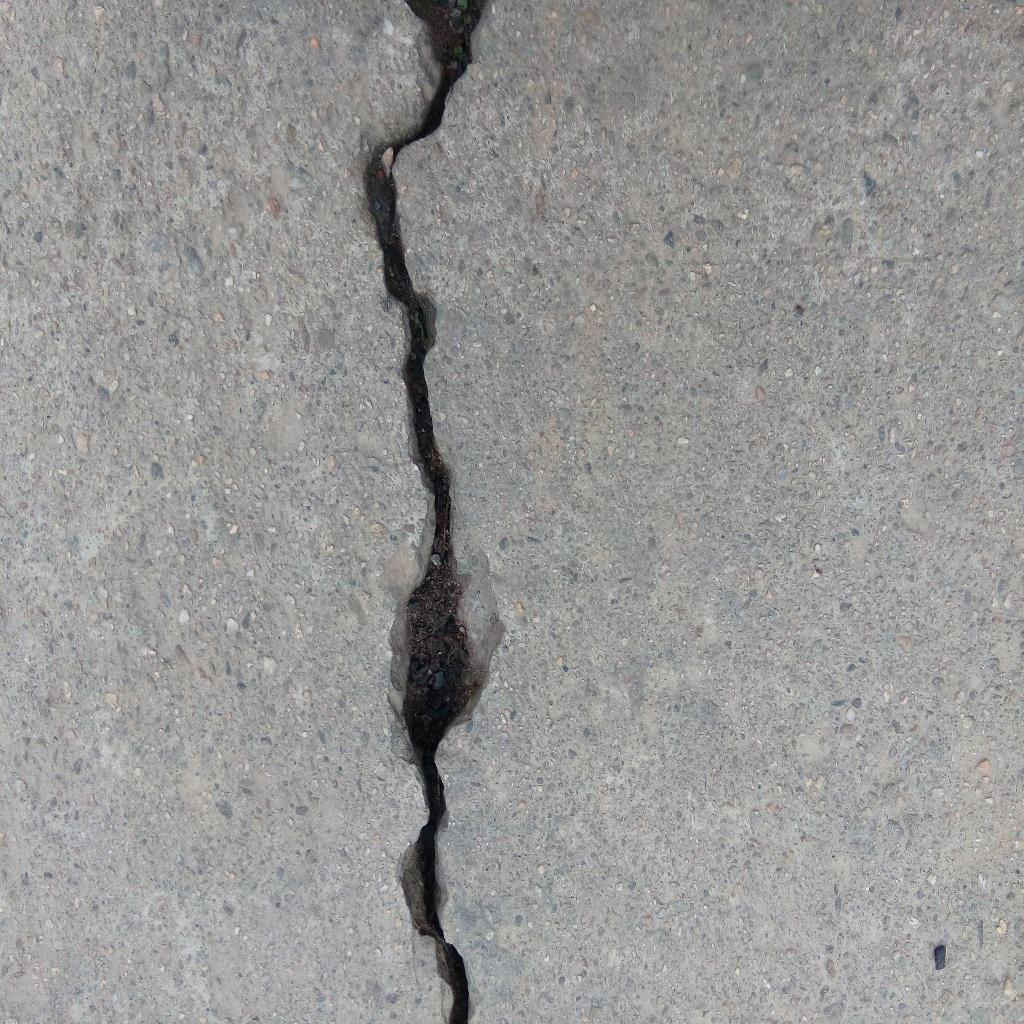Crack: (361, 1, 503, 1024)
